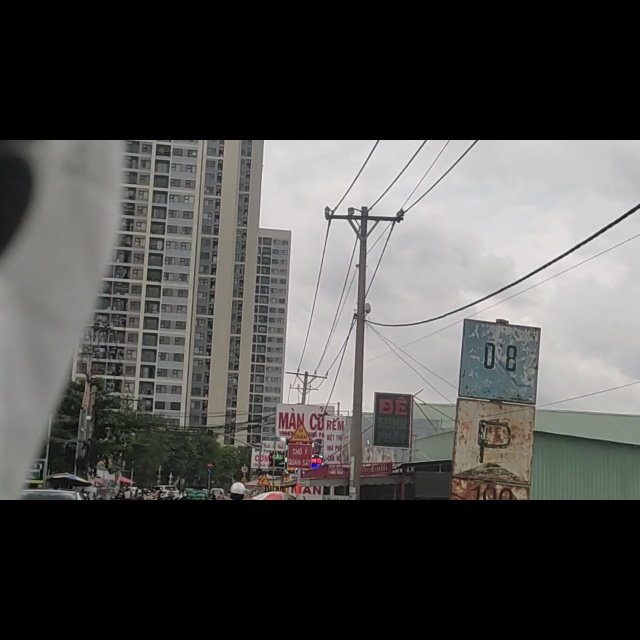bien_cam: (289, 500, 313, 539)
